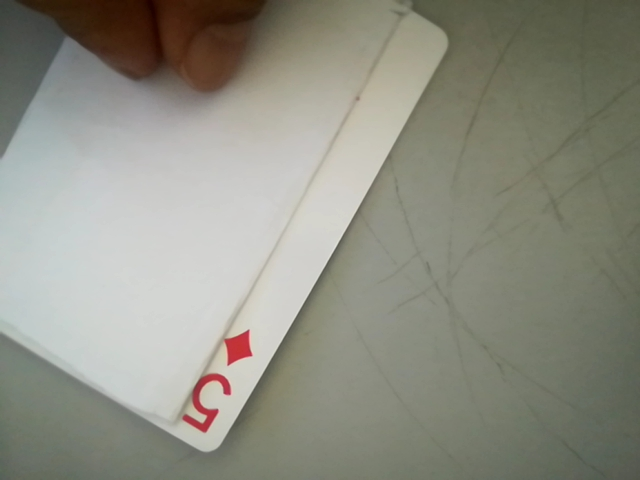fk 5: (173, 321, 262, 447)
